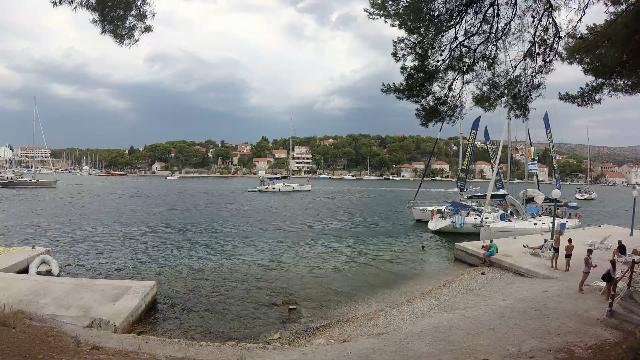Sailboat: (242, 170, 320, 199), (0, 164, 62, 194)
